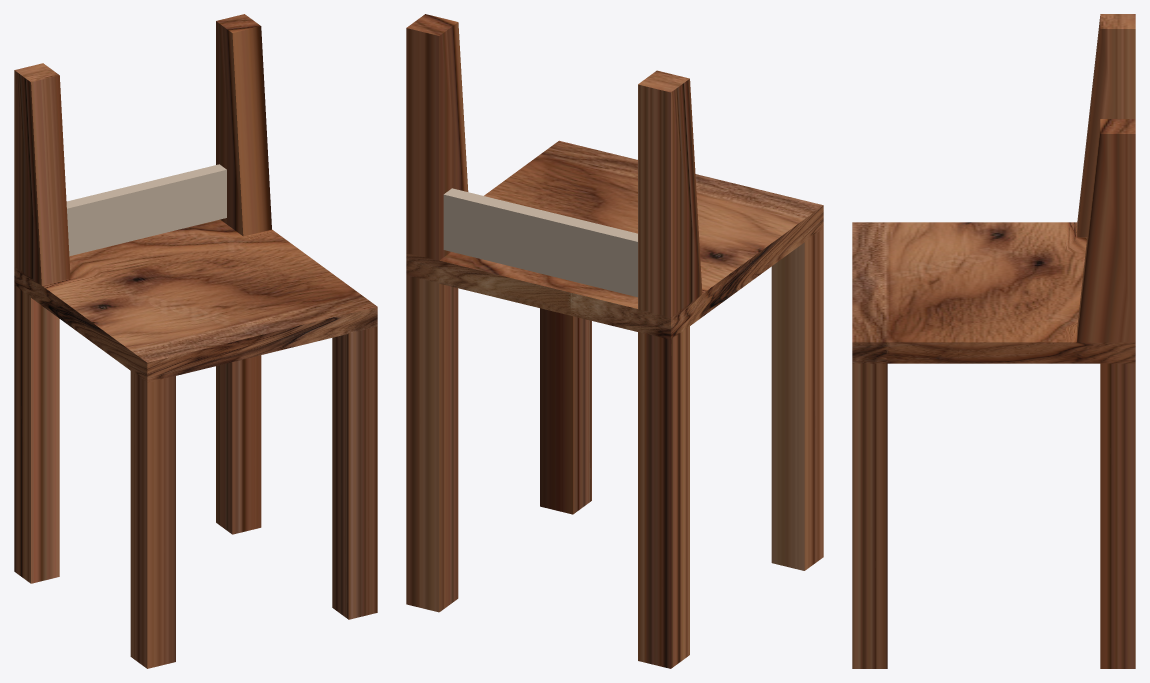
The picture shows the model from 3 angles, left to right: view 1: azimuth 30°, elevation 25°; view 2: azimuth 150°, elevation 25°; view 3: azimuth 270°, elevation 25°; orthographic projection. The views are drawn at different scales.
Visible parts, largest first — view 1: Cube, Plane; view 2: Cube, Plane; view 3: Cube.
Part boxes in pixels (x1,y1,x2,y2): Cube: [14, 14, 377, 668]; Plane: [66, 164, 226, 256]; Cube: [406, 14, 823, 668]; Plane: [443, 188, 637, 297]; Cube: [852, 14, 1135, 668].
Bounding box in the file's own units: 2 × 4.16 × 2.
Materials: 2 (1 with a texture image).
